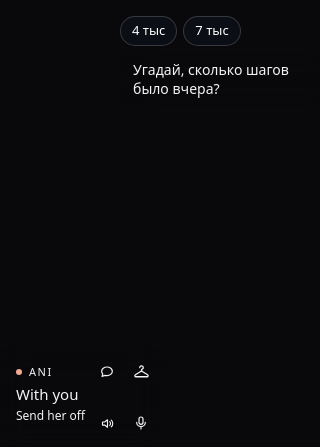
Test: AniCorner › LineChips: her own line with buttons runs the one tapped and closes
What coordinates should you click on to do the following:
click the button "7 тыс"
I would click on:
 (212, 31)
Its box is [183, 16, 241, 46].
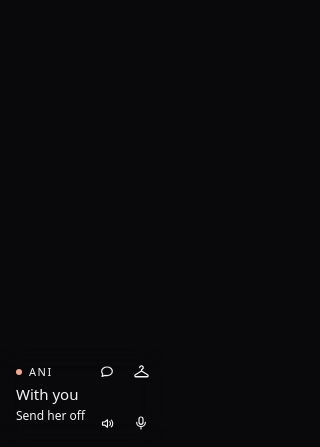
Now the button "4 тыс" is gone
